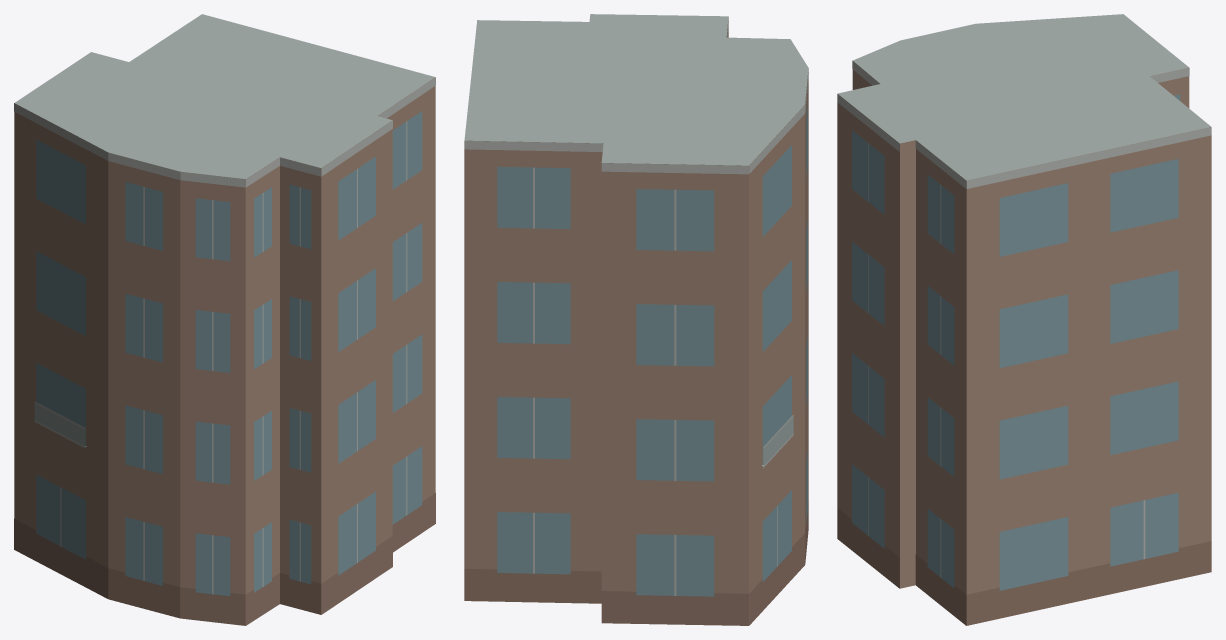
File: survey-upis-32614686.glb
3 views of the same model, side by side, from view 1: azimuth 30°, elevation 25°; view 2: azimuth 150°, elevation 25°; view 3: azimuth 270°, elevation 25° (orthographic). The views are drawn at different scales.
Parts seen in each view (by area): view 1: survey-upis-32614686.tmp; view 2: survey-upis-32614686.tmp; view 3: survey-upis-32614686.tmp.
Boxes of the visible parts, left/top/right/bottom form: survey-upis-32614686.tmp: left=14, top=14, right=435, bottom=625; survey-upis-32614686.tmp: left=464, top=14, right=808, bottom=625; survey-upis-32614686.tmp: left=837, top=14, right=1211, bottom=625.
Bounding box in the file's own units: 10.28 × 12.8 × 9.76.
